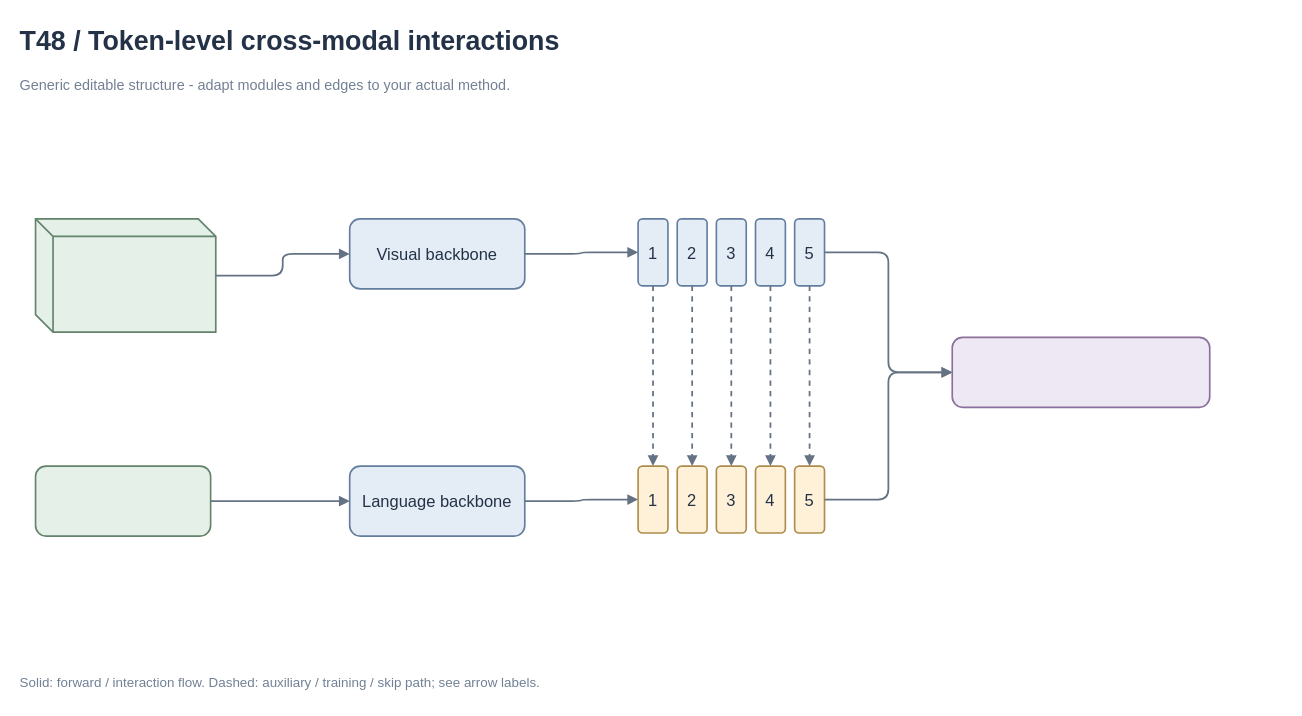
Some shapes in this 1302 by 716 pixel diagram are drawn without their labels. Each missing label, with the centre of its shape:
Language tokens: (x=122, y=500)
Shared fusion tokens: (x=1080, y=372)
Visual tokens: (x=125, y=275)
